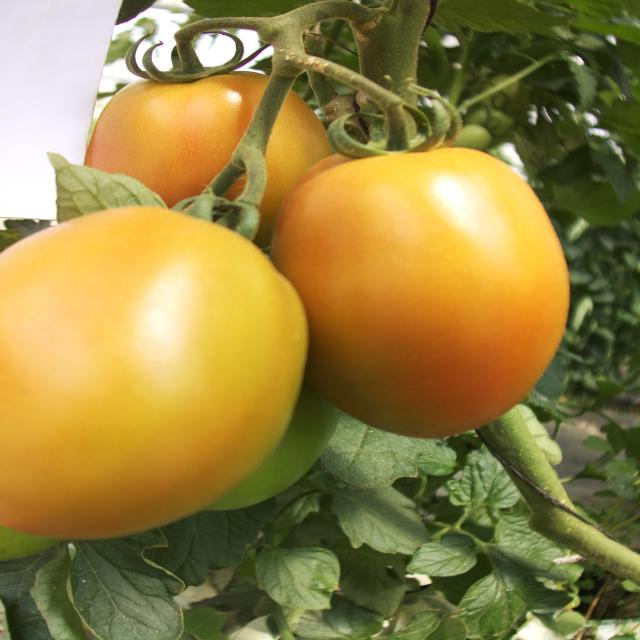sari: (34, 66, 587, 529)
